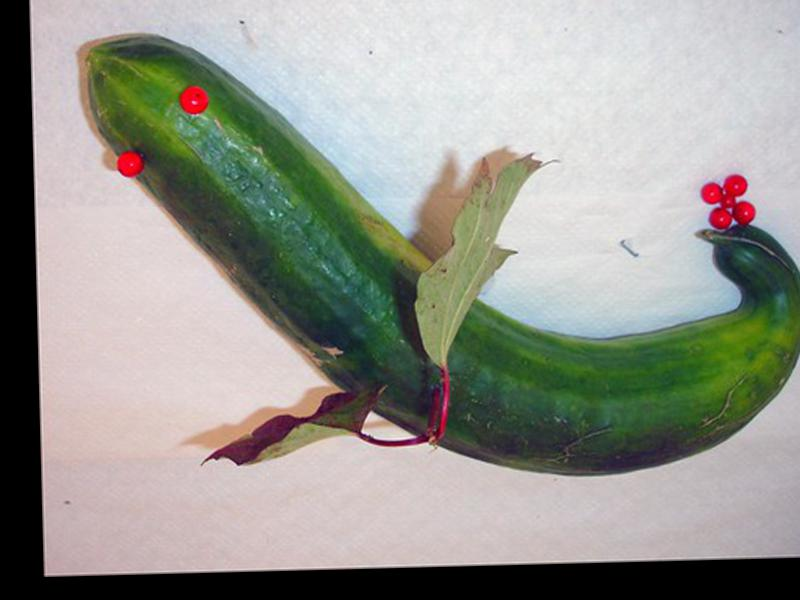Cucumber: (85, 19, 800, 488)
